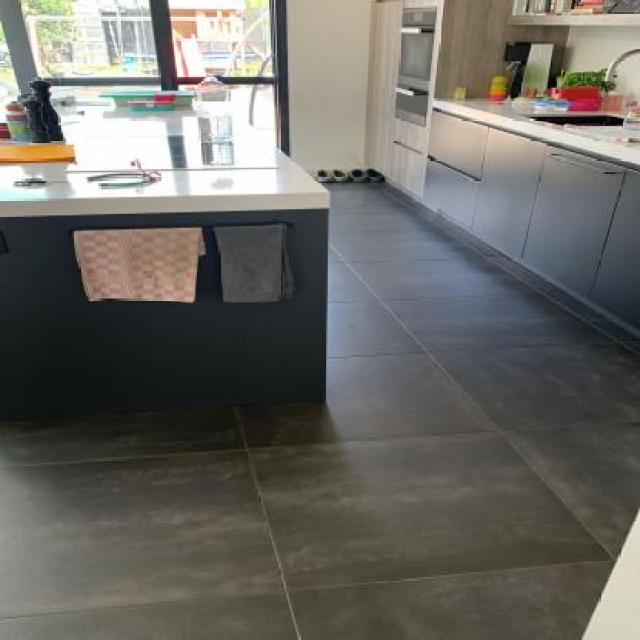Floor: (0, 180, 638, 640)
